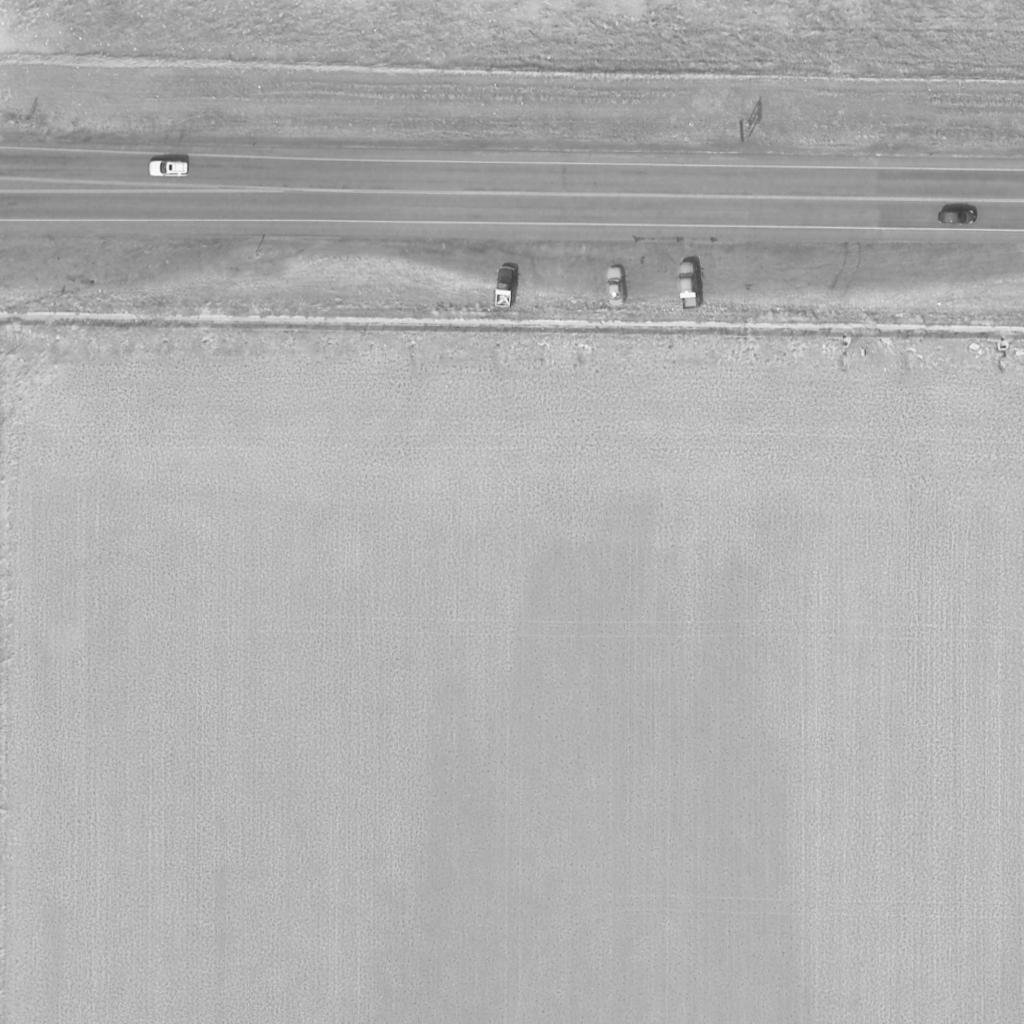vehicle: (677, 262, 701, 310), (494, 265, 518, 309), (607, 266, 625, 308), (937, 209, 977, 225), (147, 161, 191, 175)
